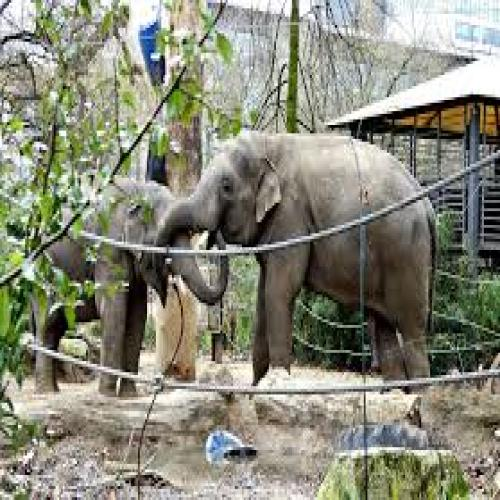asian_elephant-endangered: (158, 132, 442, 383), (31, 176, 231, 397)
